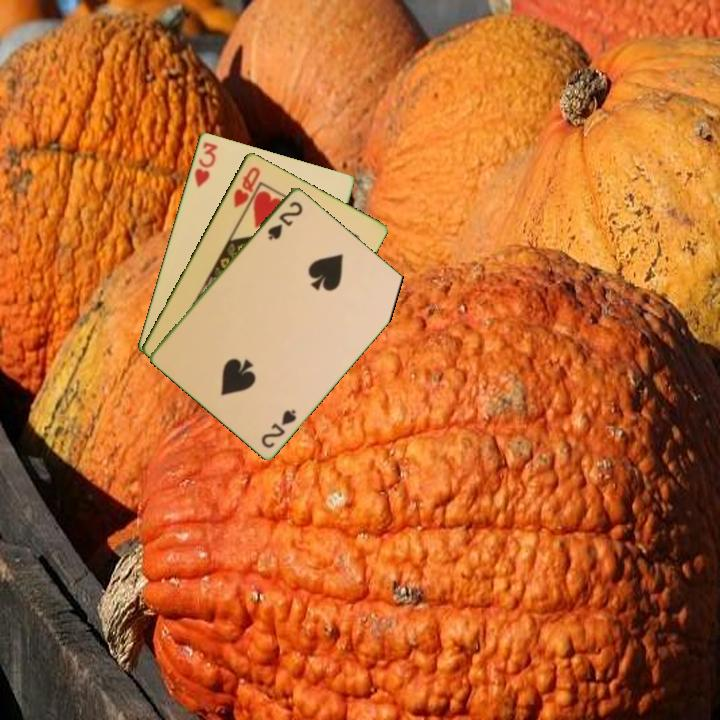2s: (264, 197, 306, 243), (257, 405, 299, 451)
3h: (190, 138, 221, 190)
Qh: (230, 163, 263, 210)
